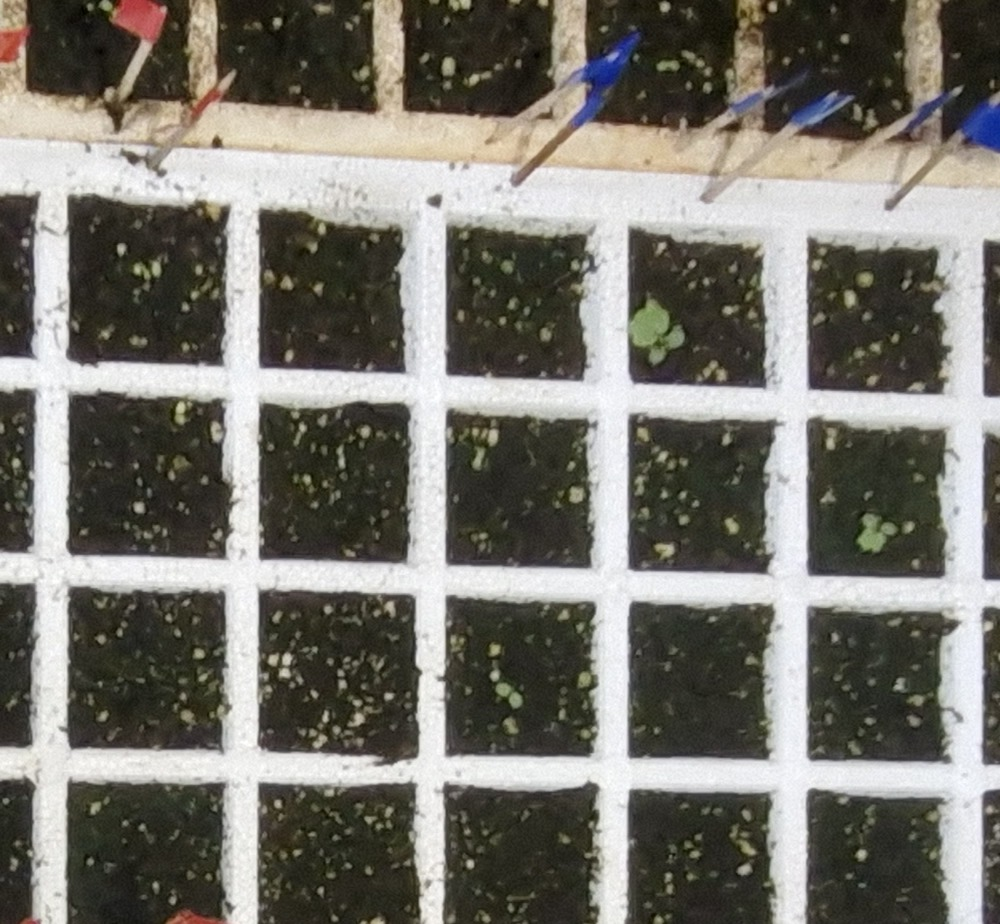Folha: (629, 300, 670, 346), (858, 530, 886, 551), (667, 330, 685, 347), (650, 347, 666, 364), (881, 521, 897, 535), (509, 692, 522, 709), (496, 684, 511, 697), (862, 514, 878, 526)
Germinacao: (629, 297, 685, 366), (857, 512, 899, 552), (495, 682, 522, 708)
